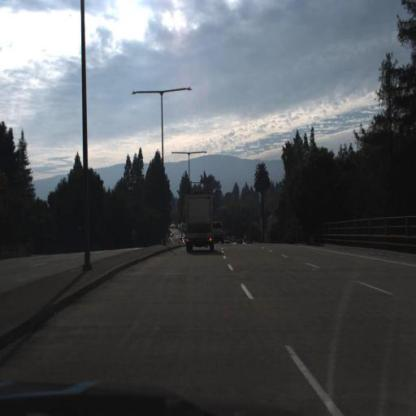car: (214, 220, 228, 244)
truck: (185, 192, 216, 254)
